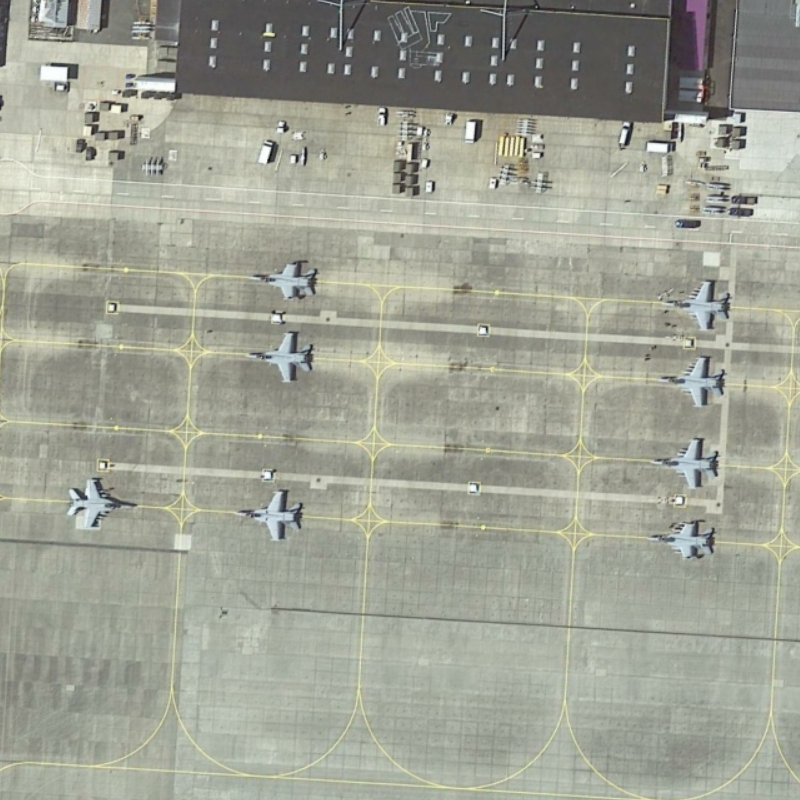A16: (646, 351, 735, 415), (641, 507, 724, 569), (655, 273, 736, 335), (237, 328, 321, 387), (229, 485, 310, 544), (646, 430, 723, 491), (60, 472, 138, 532), (248, 252, 327, 309)
